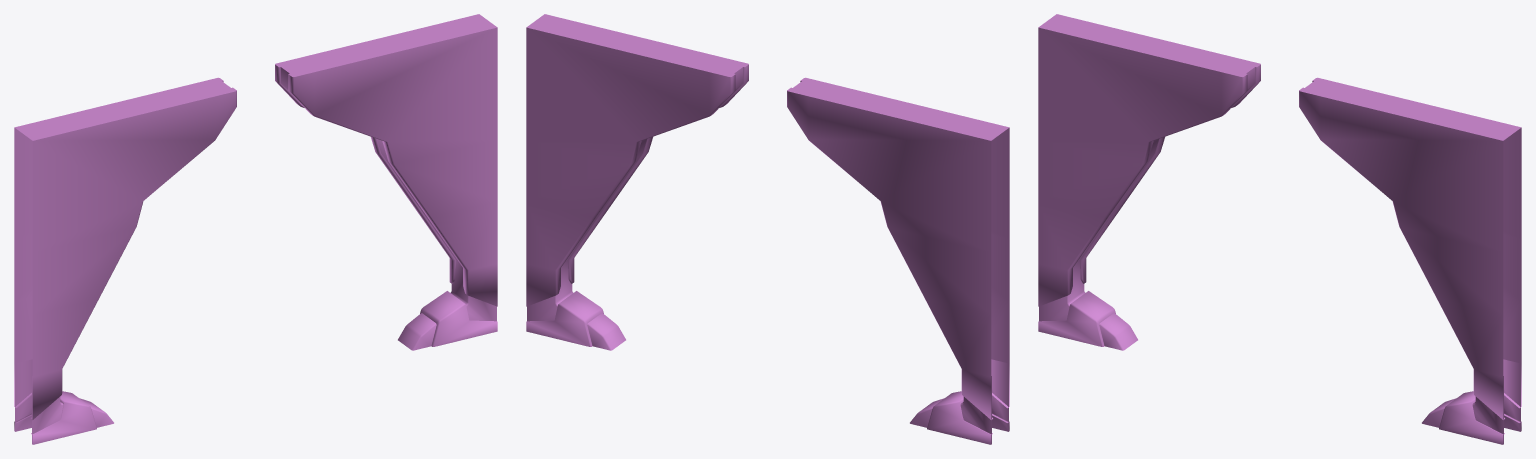
Rendered from HallDivider.fbx.
The picture shows the model from 3 angles, left to right: view 1: azimuth 30°, elevation 25°; view 2: azimuth 150°, elevation 25°; view 3: azimuth 330°, elevation 25°; orthographic projection.
Parts seen in each view (by area): view 1: HallDivider; view 2: HallDivider; view 3: HallDivider.
Part boxes in pixels (x1=…): HallDivider: x1=14, y1=14, x2=497, y2=444; HallDivider: x1=526, y1=14, x2=1009, y2=444; HallDivider: x1=1038, y1=14, x2=1521, y2=444.
Size of the model in its own units: 8 by 5 by 0.55.
